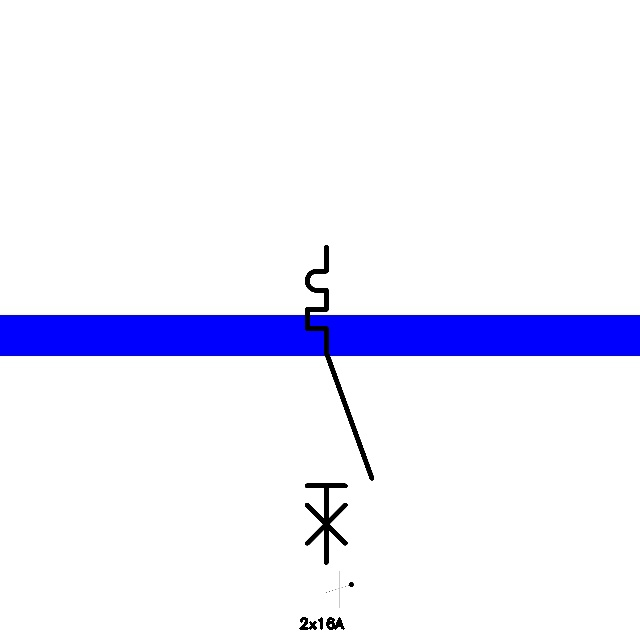interruptor_termomagnetico: (299, 239, 380, 571)
